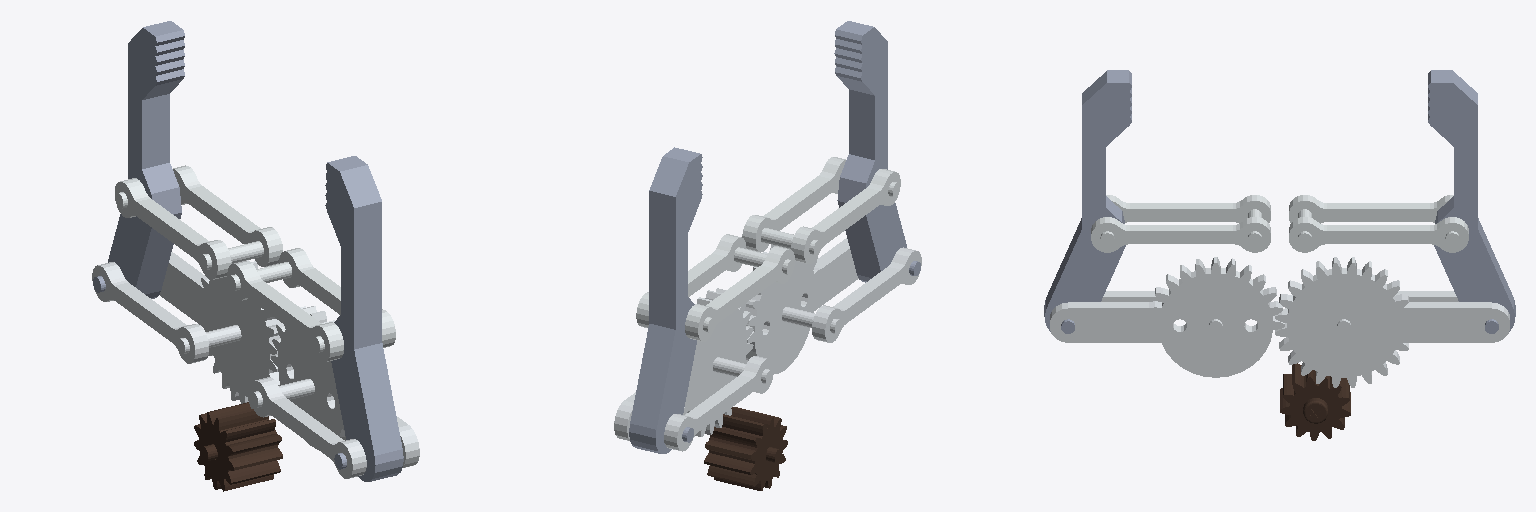
The robot description file, URDF, robot "gripper_description":
<?xml version="1.0" encoding="utf-8"?>
<!-- This URDF was automatically created by SolidWorks to URDF Exporter! Originally created by [author] ([email redacted]) 
     Commit Version: 1.6.0-1-g15f4949  Build Version: 1.6.7594.29634
     For more information, please see http://wiki.ros.org/sw_urdf_exporter -->
<robot
  name="gripper_description">
  <link
    name="base_link">
    <inertial>
      <origin
        xyz="-0.011154680037244 0.000488273634499339 0.0283263353467232"
        rpy="0 0 0" />
      <mass
        value="0.0219089285261832" />
      <inertia
        ixx="5.04718879690829E-06"
        ixy="-2.98213421584744E-09"
        ixz="-2.72129254797234E-14"
        iyy="3.5735842272919E-06"
        iyz="-6.51940558997937E-08"
        izz="2.6563241218225E-06" />
    </inertial>
    <visual>
      <origin
        xyz="0 0 0"
        rpy="0 0 0" />
      <geometry>
        <mesh
          filename="package://gripper_description/meshes/base_link.STL" />
      </geometry>
      <material
        name="">
        <color
          rgba="0.898039215686275 0.92156862745098 0.929411764705882 1" />
      </material>
    </visual>
    <collision>
      <origin
        xyz="0 0 0"
        rpy="0 0 0" />
      <geometry>
        <mesh
          filename="package://gripper_description/meshes/base_link.STL" />
      </geometry>
    </collision>
  </link>
  <link
    name="power_link">
    <inertial>
      <origin
        xyz="-0.000377105653658089 8.36073234949941E-10 -1.17062502746901E-09"
        rpy="0 0 0" />
      <mass
        value="0.00145942907416327" />
      <inertia
        ixx="3.19833088141474E-08"
        ixy="-6.75092637786707E-15"
        ixz="9.45230876179989E-15"
        iyy="3.07655180281297E-08"
        iyz="-2.22068249907036E-15"
        izz="3.0765519551386E-08" />
    </inertial>
    <visual>
      <origin
        xyz="0 0 0"
        rpy="0 0 0" />
      <geometry>
        <mesh
          filename="package://gripper_description/meshes/power_link.STL" />
      </geometry>
      <material
        name="">
        <color
          rgba="0.317647058823529 0.247058823529412 0.207843137254902 1" />
      </material>
    </visual>
    <collision>
      <origin
        xyz="0 0 0"
        rpy="0 0 0" />
      <geometry>
        <mesh
          filename="package://gripper_description/meshes/power_link.STL" />
      </geometry>
    </collision>
  </link>
  <joint
    name="power_joint"
    type="revolute">
    <origin
      xyz="0.00125 0.0075197 0.02478"
      rpy="0 0 0" />
    <parent
      link="base_link" />
    <child
      link="power_link" />
    <axis
      xyz="1 0 0" />
    <limit
      lower="0"
      upper="0"
      effort="0"
      velocity="0" />
  </joint>
  <link
    name="left_gear_link">
    <inertial>
      <origin
        xyz="-0.00206477938876969 -0.00712705692013642 0.000470998597776356"
        rpy="0 0 0" />
      <mass
        value="0.00248537947426596" />
      <inertia
        ixx="4.0136467834394E-07"
        ixy="2.31814290033437E-24"
        ixz="-4.19180794196627E-24"
        iyy="6.9986227044892E-08"
        iyz="-7.20770201979308E-09"
        izz="3.39762360823067E-07" />
    </inertial>
    <visual>
      <origin
        xyz="0 0 0"
        rpy="0 0 0" />
      <geometry>
        <mesh
          filename="package://gripper_description/meshes/left_gear_link.STL" />
      </geometry>
      <material
        name="">
        <color
          rgba="0.894117647058823 0.913725490196078 0.929411764705882 1" />
      </material>
    </visual>
    <collision>
      <origin
        xyz="0 0 0"
        rpy="0 0 0" />
      <geometry>
        <mesh
          filename="package://gripper_description/meshes/left_gear_link.STL" />
      </geometry>
    </collision>
  </link>
  <joint
    name="left_gear_joint"
    type="continuous">
    <origin
      xyz="0.00425 -0.02102 0.019825"
      rpy="0 0 0" />
    <parent
      link="power_link" />
    <child
      link="left_gear_link" />
    <axis
      xyz="1 0 0" />
  </joint>
  <link
    name="left_finger_link">
    <inertial>
      <origin
        xyz="-9.0205620750794E-17 0.00495816296253728 0.022292005491854"
        rpy="0 0 0" />
      <mass
        value="0.00296891525111356" />
      <inertia
        ixx="9.24608677627615E-07"
        ixy="-1.01882896888486E-24"
        ixz="8.12561062706577E-24"
        iyy="8.87593583276426E-07"
        iyz="-1.18086134887378E-07"
        izz="4.61243075404803E-08" />
    </inertial>
    <visual>
      <origin
        xyz="0 0 0"
        rpy="0 0 0" />
      <geometry>
        <mesh
          filename="package://gripper_description/meshes/left_finger_link.STL" />
      </geometry>
      <material
        name="">
        <color
          rgba="0.666666666666667 0.698039215686274 0.768627450980392 1" />
      </material>
    </visual>
    <collision>
      <origin
        xyz="0 0 0"
        rpy="0 0 0" />
      <geometry>
        <mesh
          filename="package://gripper_description/meshes/left_finger_link.STL" />
      </geometry>
    </collision>
  </link>
  <joint
    name="left_finger_joint"
    type="fixed">
    <origin
      xyz="-0.0055 -0.031 0"
      rpy="0 0 0" />
    <parent
      link="left_gear_link" />
    <child
      link="left_finger_link" />
    <axis
      xyz="0 0 0" />
  </joint>
  <link
    name="right_gear_link">
    <inertial>
      <origin
        xyz="-0.00193086606490488 0.00665199997650243 -5.55111512312578E-17"
        rpy="0 0 0" />
      <mass
        value="0.00265775053226583" />
      <inertia
        ixx="4.32773768952488E-07"
        ixy="1.03870127861707E-22"
        ixz="-7.81583651723948E-24"
        iyy="8.3433669592131E-08"
        iyz="5.06572537167448E-23"
        izz="3.57982565471376E-07" />
    </inertial>
    <visual>
      <origin
        xyz="0 0 0"
        rpy="0 0 0" />
      <geometry>
        <mesh
          filename="package://gripper_description/meshes/right_gear_link.STL" />
      </geometry>
      <material
        name="">
        <color
          rgba="0.894117647058823 0.913725490196078 0.929411764705882 1" />
      </material>
    </visual>
    <collision>
      <origin
        xyz="0 0 0"
        rpy="0 0 0" />
      <geometry>
        <mesh
          filename="package://gripper_description/meshes/right_gear_link.STL" />
      </geometry>
    </collision>
  </link>
  <joint
    name="right_gear_joint"
    type="revolute">
    <origin
      xyz="0.00425 0.0059803 0.019825"
      rpy="0 0 0" />
    <parent
      link="power_link" />
    <child
      link="right_gear_link" />
    <axis
      xyz="1 0 0" />
    <limit
      lower="0"
      upper="0"
      effort="0"
      velocity="0" />
  </joint>
  <link
    name="right_finger_link">
    <inertial>
      <origin
        xyz="-6.93889390390723E-18 -0.00495816296253955 0.0222920054918513"
        rpy="0 0 0" />
      <mass
        value="0.00296891525111356" />
      <inertia
        ixx="9.24608677627615E-07"
        ixy="-2.66930133782025E-23"
        ixz="4.3715478979677E-22"
        iyy="8.87593583276426E-07"
        iyz="1.18086134887376E-07"
        izz="4.61243075404799E-08" />
    </inertial>
    <visual>
      <origin
        xyz="0 0 0"
        rpy="0 0 0" />
      <geometry>
        <mesh
          filename="package://gripper_description/meshes/right_finger_link.STL" />
      </geometry>
      <material
        name="">
        <color
          rgba="0.666666666666667 0.698039215686274 0.768627450980392 1" />
      </material>
    </visual>
    <collision>
      <origin
        xyz="0 0 0"
        rpy="0 0 0" />
      <geometry>
        <mesh
          filename="package://gripper_description/meshes/right_finger_link.STL" />
      </geometry>
    </collision>
  </link>
  <joint
    name="right_finger_joint"
    type="continuous">
    <origin
      xyz="-0.0055 0.031 0"
      rpy="0 0 0" />
    <parent
      link="right_gear_link" />
    <child
      link="right_finger_link" />
    <axis
      xyz="1 0 0" />
  </joint>
  <link
    name="right_knuckle_link">
    <inertial>
      <origin
        xyz="3.46944695195361E-17 -0.0154999999999998 -2.81025203108243E-16"
        rpy="0 0 0" />
      <mass
        value="0.00104614466493557" />
      <inertia
        ixx="1.16253676626402E-07"
        ixy="2.16096755396807E-23"
        ixz="1.12760614542648E-24"
        iyy="7.2841553861408E-09"
        iyz="1.17141980816006E-21"
        izz="1.19850418862904E-07" />
    </inertial>
    <visual>
      <origin
        xyz="0 0 0"
        rpy="0 0 0" />
      <geometry>
        <mesh
          filename="package://gripper_description/meshes/right_knuckle_link.STL" />
      </geometry>
      <material
        name="">
        <color
          rgba="0.898039215686275 0.92156862745098 0.929411764705882 1" />
      </material>
    </visual>
    <collision>
      <origin
        xyz="0 0 0"
        rpy="0 0 0" />
      <geometry>
        <mesh
          filename="package://gripper_description/meshes/right_knuckle_link.STL" />
      </geometry>
    </collision>
  </link>
  <joint
    name="right_knuckle_joint"
    type="continuous">
    <origin
      xyz="0 0.03625 0.065"
      rpy="0 0 0" />
    <parent
      link="base_link" />
    <child
      link="right_knuckle_link" />
    <axis
      xyz="1 0 0" />
  </joint>
  <link
    name="left_knuckle_link">
    <inertial>
      <origin
        xyz="-2.77555756156289E-17 -0.0154999999999998 -1.49186218934005E-16"
        rpy="0 0 0" />
      <mass
        value="0.00104614466493557" />
      <inertia
        ixx="1.16253676626402E-07"
        ixy="-4.37218268109782E-27"
        ixz="-1.23062301214475E-26"
        iyy="7.2841553861408E-09"
        iyz="-2.77679038637797E-25"
        izz="1.19850418862904E-07" />
    </inertial>
    <visual>
      <origin
        xyz="0 0 0"
        rpy="0 0 0" />
      <geometry>
        <mesh
          filename="package://gripper_description/meshes/left_knuckle_link.STL" />
      </geometry>
      <material
        name="">
        <color
          rgba="0.898039215686275 0.92156862745098 0.929411764705882 1" />
      </material>
    </visual>
    <collision>
      <origin
        xyz="0 0 0"
        rpy="0 0 0" />
      <geometry>
        <mesh
          filename="package://gripper_description/meshes/left_knuckle_link.STL" />
      </geometry>
    </collision>
  </link>
  <joint
    name="left_knuckle_joint"
    type="fixed">
    <origin
      xyz="0 -0.00525 0.065"
      rpy="0 0 0" />
    <parent
      link="base_link" />
    <child
      link="left_knuckle_link" />
    <axis
      xyz="0 0 0" />
  </joint>
</robot>

--- What the picture shows (computed from the rendered views, not written in the file) ---
3 views of the same robot in one strip: view 1: azimuth 30°, elevation 25°; view 2: azimuth 150°, elevation 25°; view 3: azimuth 270°, elevation 25° (orthographic).
Robot: gripper_description — 8 links, 7 joints (2 revolute, 3 continuous, 2 fixed); root link base_link; default pose: all joints at 0.
Visible links, largest first — view 1: left_finger_link, right_finger_link, right_gear_link, left_gear_link, right_knuckle_link, left_knuckle_link, power_link; view 2: right_finger_link, left_finger_link, left_gear_link, right_gear_link, left_knuckle_link, right_knuckle_link, power_link; view 3: right_gear_link, left_gear_link, right_finger_link, left_finger_link, right_knuckle_link, left_knuckle_link, power_link.
Boxes of the visible links, x1=… form: left_finger_link: x1=325, y1=156, x2=403, y2=481; right_finger_link: x1=93, y1=21, x2=184, y2=298; right_gear_link: x1=92, y1=252, x2=280, y2=408; left_gear_link: x1=250, y1=306, x2=419, y2=478; right_knuckle_link: x1=115, y1=165, x2=282, y2=279; left_knuckle_link: x1=227, y1=248, x2=395, y2=361; power_link: x1=194, y1=402, x2=282, y2=491; right_finger_link: x1=629, y1=147, x2=702, y2=453; left_finger_link: x1=834, y1=21, x2=920, y2=282; left_gear_link: x1=744, y1=238, x2=921, y2=373; right_gear_link: x1=614, y1=288, x2=773, y2=451; left_knuckle_link: x1=742, y1=157, x2=900, y2=263; right_knuckle_link: x1=636, y1=234, x2=794, y2=341; power_link: x1=704, y1=407, x2=787, y2=490; right_gear_link: x1=1275, y1=257, x2=1509, y2=387; left_gear_link: x1=1050, y1=257, x2=1284, y2=377; right_finger_link: x1=1428, y1=70, x2=1515, y2=333; left_finger_link: x1=1044, y1=70, x2=1131, y2=333; right_knuckle_link: x1=1289, y1=195, x2=1468, y2=252; left_knuckle_link: x1=1091, y1=195, x2=1270, y2=252; power_link: x1=1280, y1=363, x2=1350, y2=440.
Size in the robot's own frame: 0.016 by 0.099 by 0.0818 metres.
Meshes: 8 distinct files referenced, 7 mesh visuals loaded (7 binary STL); not drawn: 1 (reference not matched to a file when rendering).
